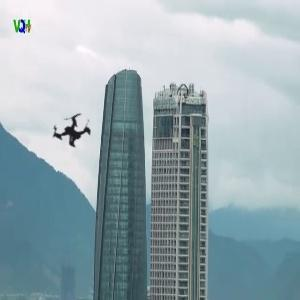drone: (20, 78, 126, 184)
